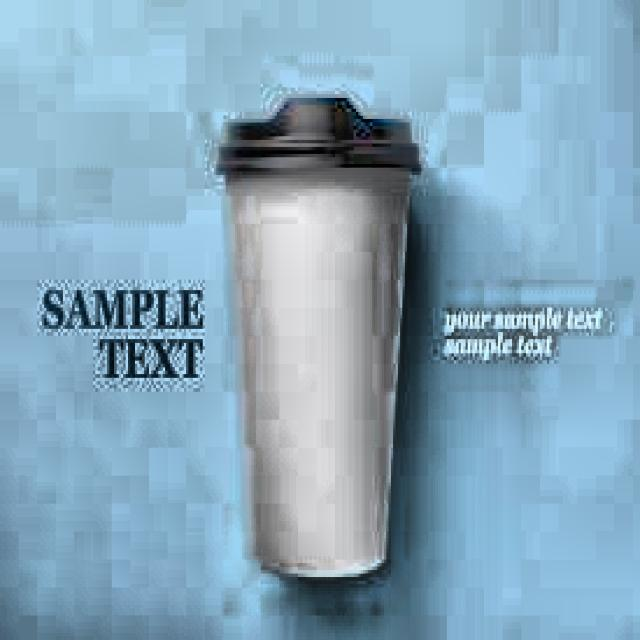Cup: (213, 144, 414, 584)
